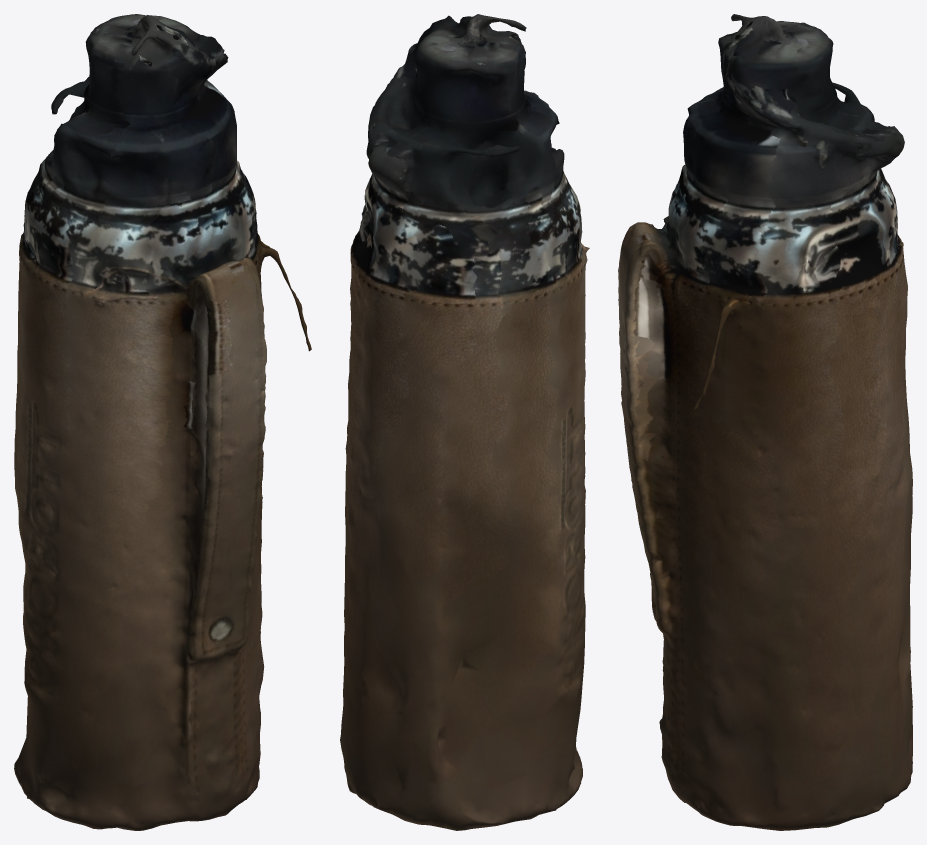
3 renders of one model, left to right at view 1: azimuth 30°, elevation 25°; view 2: azimuth 150°, elevation 25°; view 3: azimuth 270°, elevation 25°, orthographic. The views are drawn at different scales.
Visible parts, largest first — view 1: ObjectCapture; view 2: ObjectCapture; view 3: ObjectCapture.
Boxes of the visible parts, x1,y1,x2,y2 form: ObjectCapture: (14,14,311,830); ObjectCapture: (340,14,589,830); ObjectCapture: (618,14,912,830).
Bounding box in the file's own units: 0.2583 × 0.8183 × 0.2833.
1 material, 1 textured.
